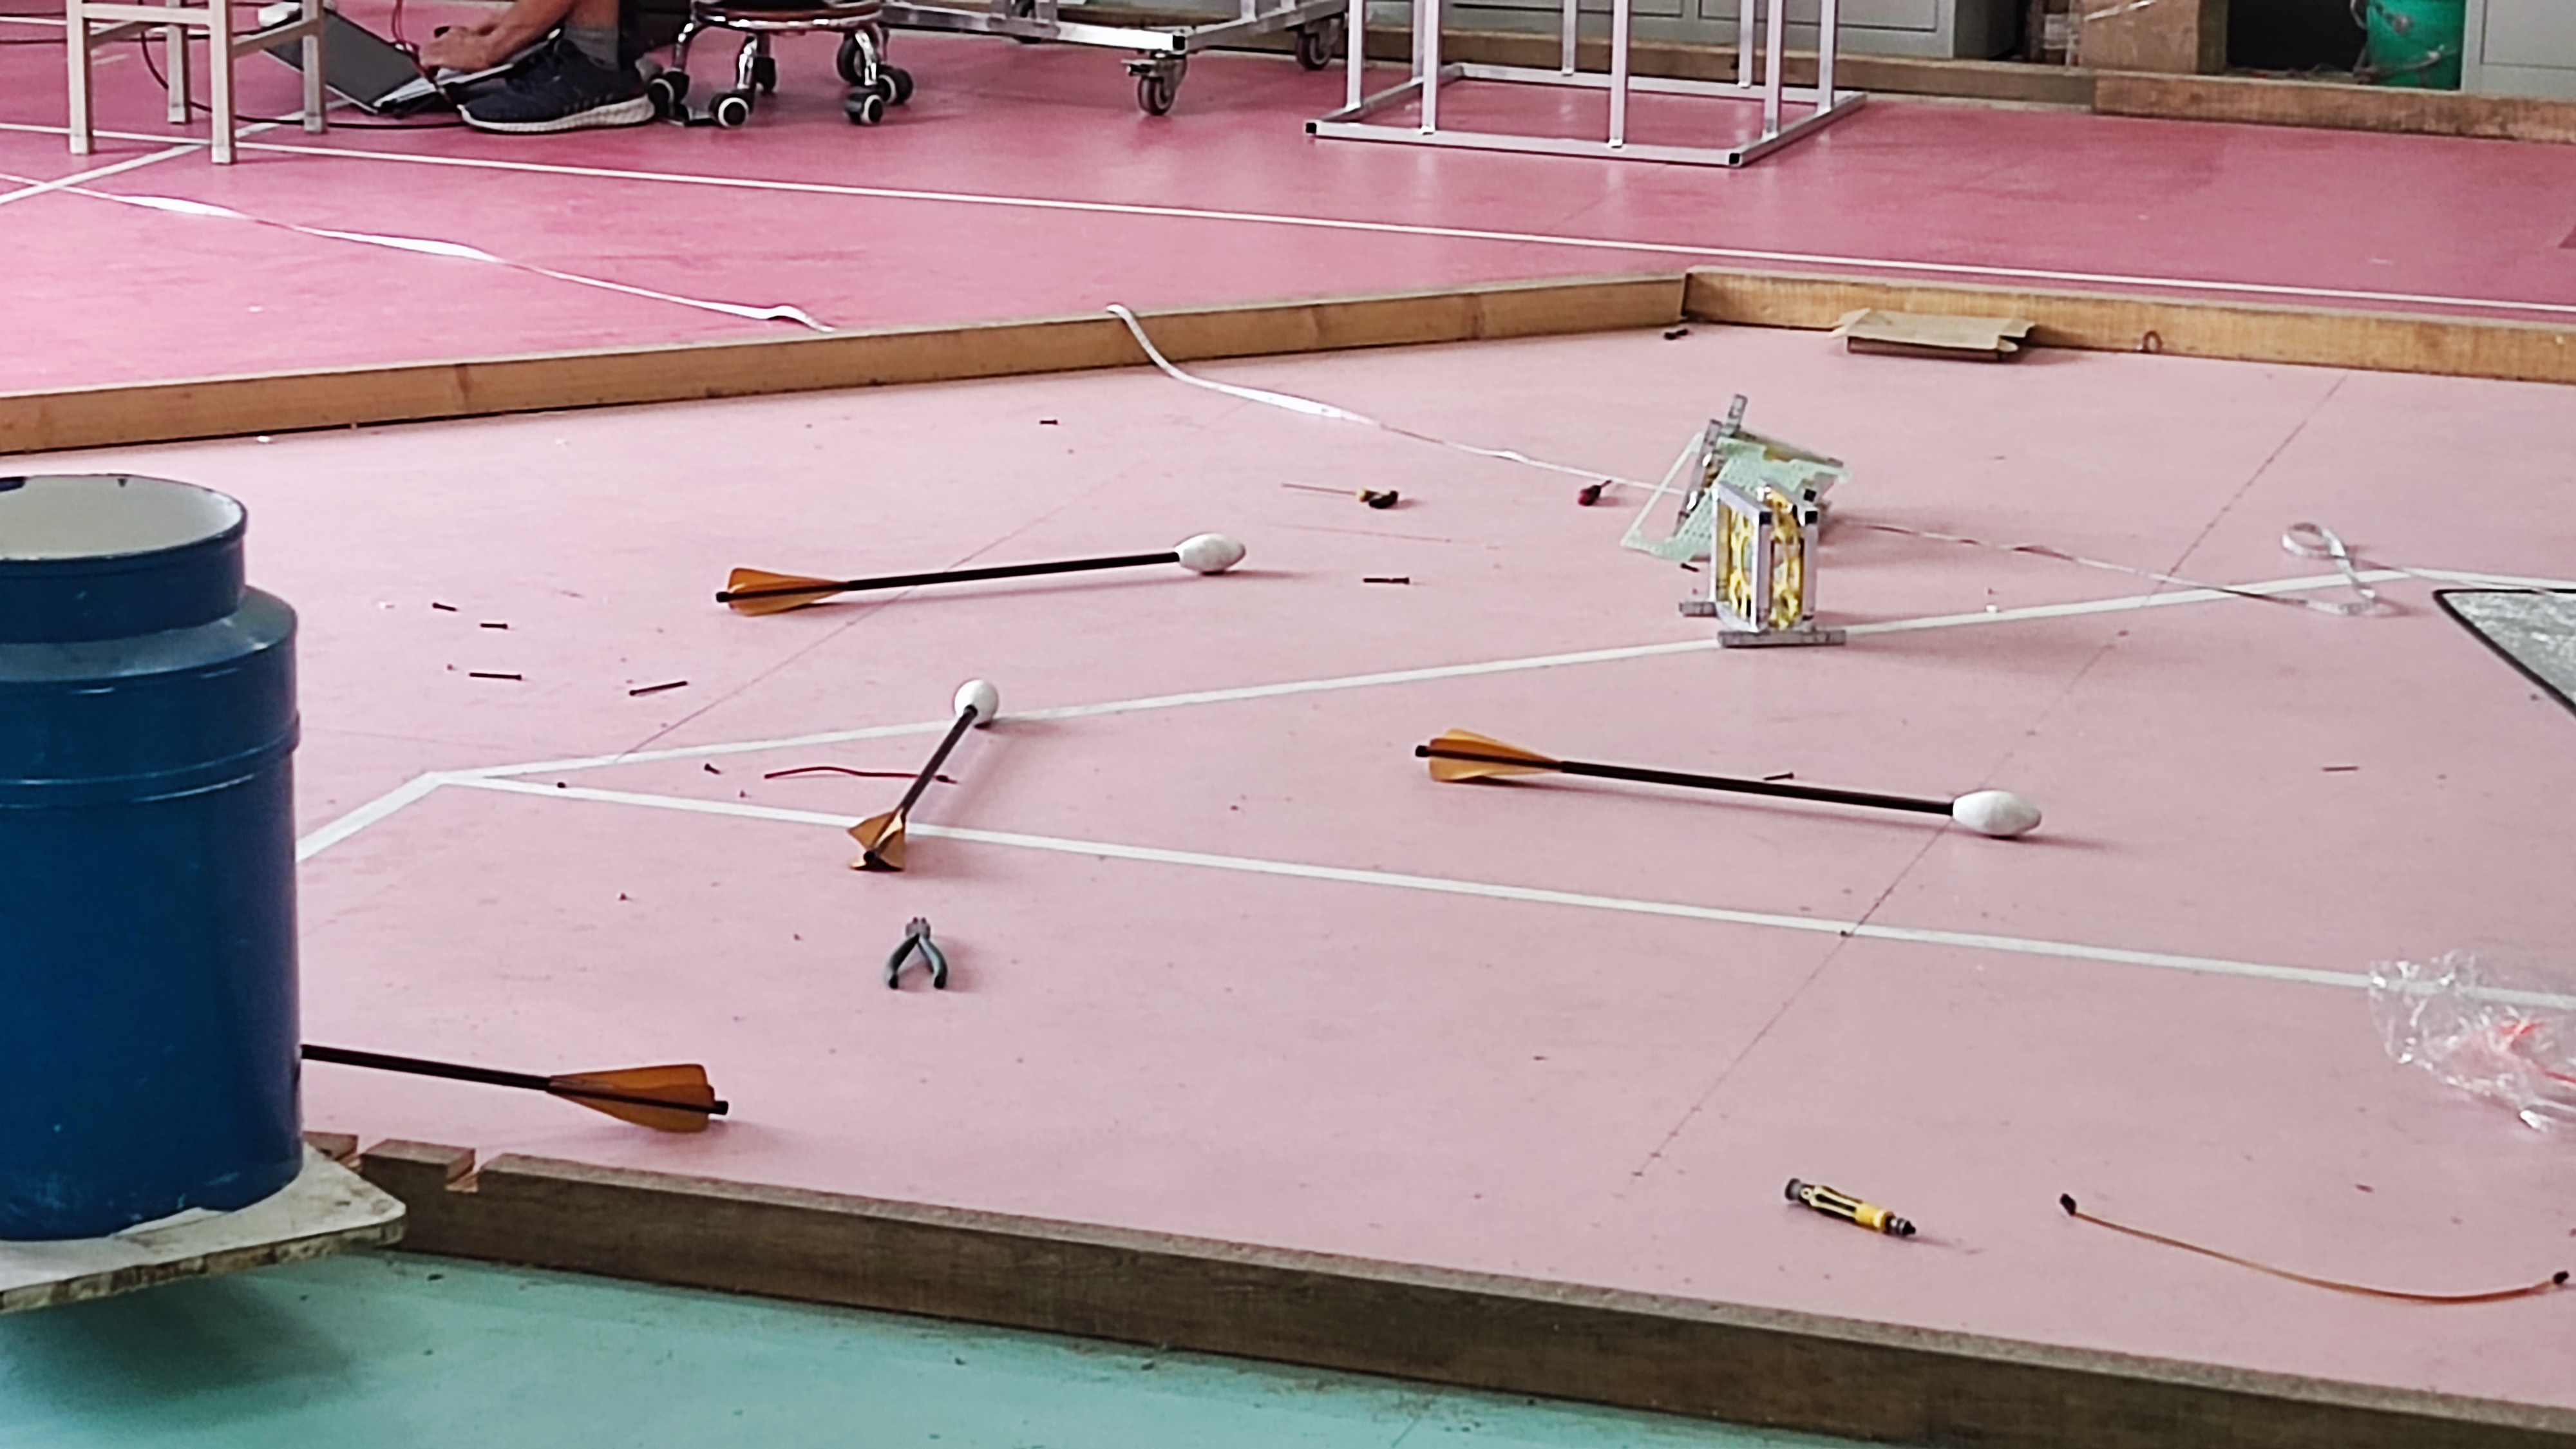arrow: (1412, 718, 2051, 837), (713, 517, 1253, 623), (849, 667, 1003, 883)
arrowFront: (1939, 780, 2049, 842), (1171, 525, 1247, 579), (947, 671, 998, 727)
blueBucket: (0, 439, 329, 1203)
